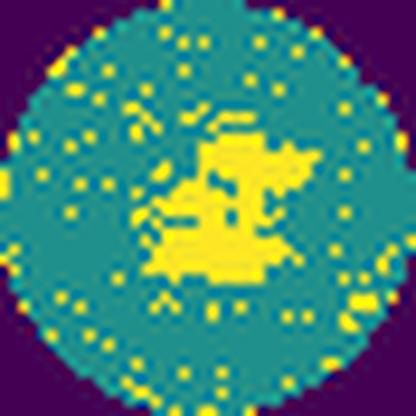Center: (129, 129, 326, 289)
